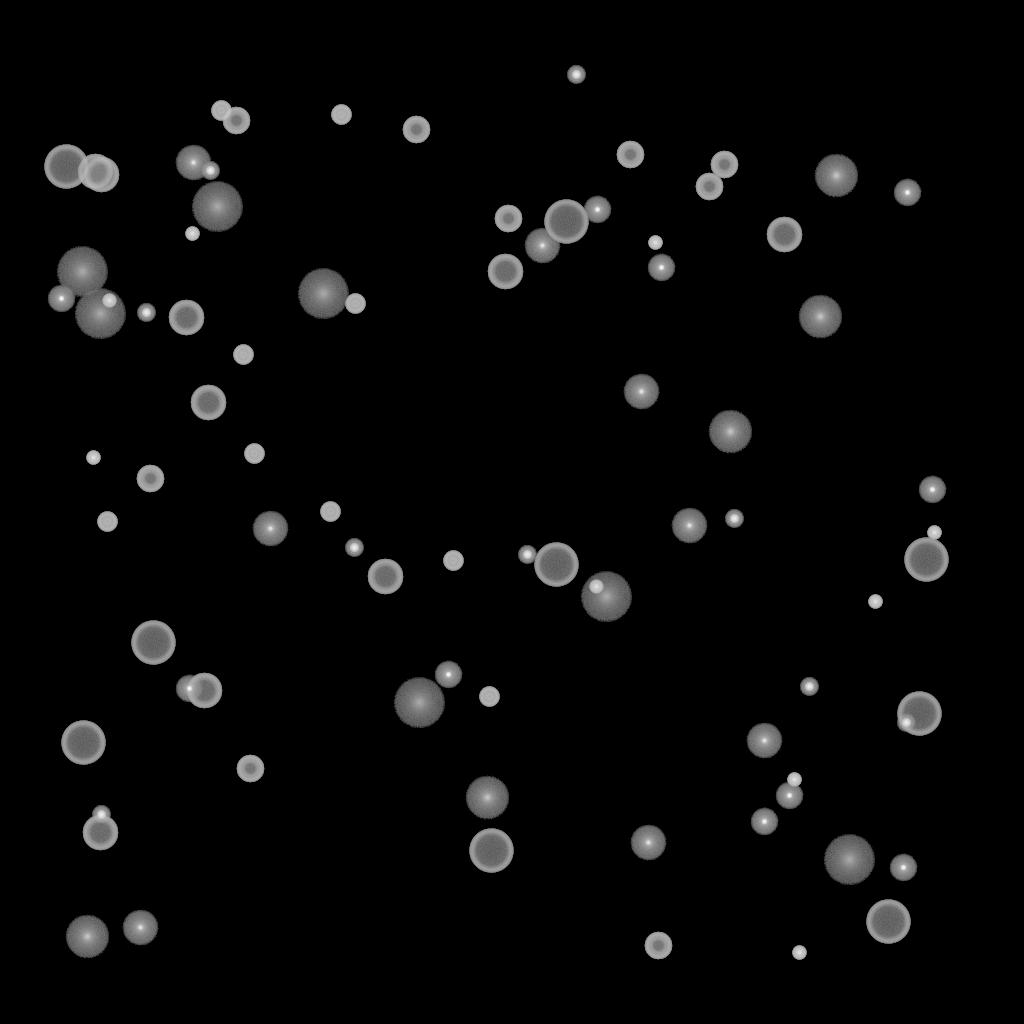depth:-10: (47, 285, 75, 313), (583, 196, 611, 224), (918, 476, 946, 504), (889, 854, 917, 882), (175, 675, 203, 703), (750, 808, 778, 836), (775, 782, 803, 810), (647, 254, 675, 282), (434, 661, 462, 689), (893, 179, 921, 207)
depth:-20: (725, 510, 743, 528), (201, 162, 219, 180), (518, 546, 536, 564), (897, 714, 915, 732), (137, 304, 155, 322), (567, 66, 585, 84), (345, 539, 363, 557), (92, 806, 110, 824), (800, 678, 818, 696)
depth:-30: (792, 946, 806, 960), (787, 773, 801, 787), (927, 526, 941, 540), (185, 227, 199, 241), (648, 236, 662, 250), (868, 595, 882, 609), (589, 580, 603, 594), (102, 294, 116, 308), (86, 451, 100, 465)
depth:-40: (97, 512, 117, 532), (211, 101, 231, 121), (345, 294, 365, 314), (320, 502, 340, 522), (443, 551, 463, 571), (233, 345, 253, 365), (331, 105, 351, 125), (479, 687, 499, 707), (244, 444, 264, 464)
depth:-50: (644, 932, 672, 960), (695, 173, 723, 201), (136, 465, 164, 493), (494, 205, 522, 233), (616, 141, 644, 169), (402, 116, 430, 144), (222, 107, 250, 135), (710, 151, 738, 179), (236, 755, 264, 783)
depth:-60: (83, 157, 119, 193), (487, 254, 523, 290), (168, 300, 204, 336), (190, 385, 226, 421), (82, 815, 118, 851), (186, 673, 222, 709), (367, 559, 403, 595), (77, 154, 113, 190), (766, 217, 802, 253)
depth:-70: (469, 829, 513, 873), (897, 692, 941, 736), (44, 145, 88, 189), (866, 900, 910, 944), (131, 621, 175, 665), (61, 721, 105, 765), (544, 200, 588, 244), (534, 543, 578, 587), (904, 538, 948, 582)
depth:0: (524, 228, 560, 264), (671, 508, 707, 544), (175, 145, 211, 181), (746, 723, 782, 759), (630, 825, 666, 861), (122, 910, 158, 946), (623, 374, 659, 410), (252, 511, 288, 547)
depth:10: (465, 776, 509, 820), (798, 295, 842, 339), (814, 154, 858, 198), (708, 410, 752, 454), (65, 915, 109, 959)
depth:20: (580, 572, 632, 622), (56, 247, 108, 297), (393, 678, 445, 728), (823, 835, 875, 885), (297, 269, 349, 319), (74, 289, 126, 339), (191, 182, 243, 232)
